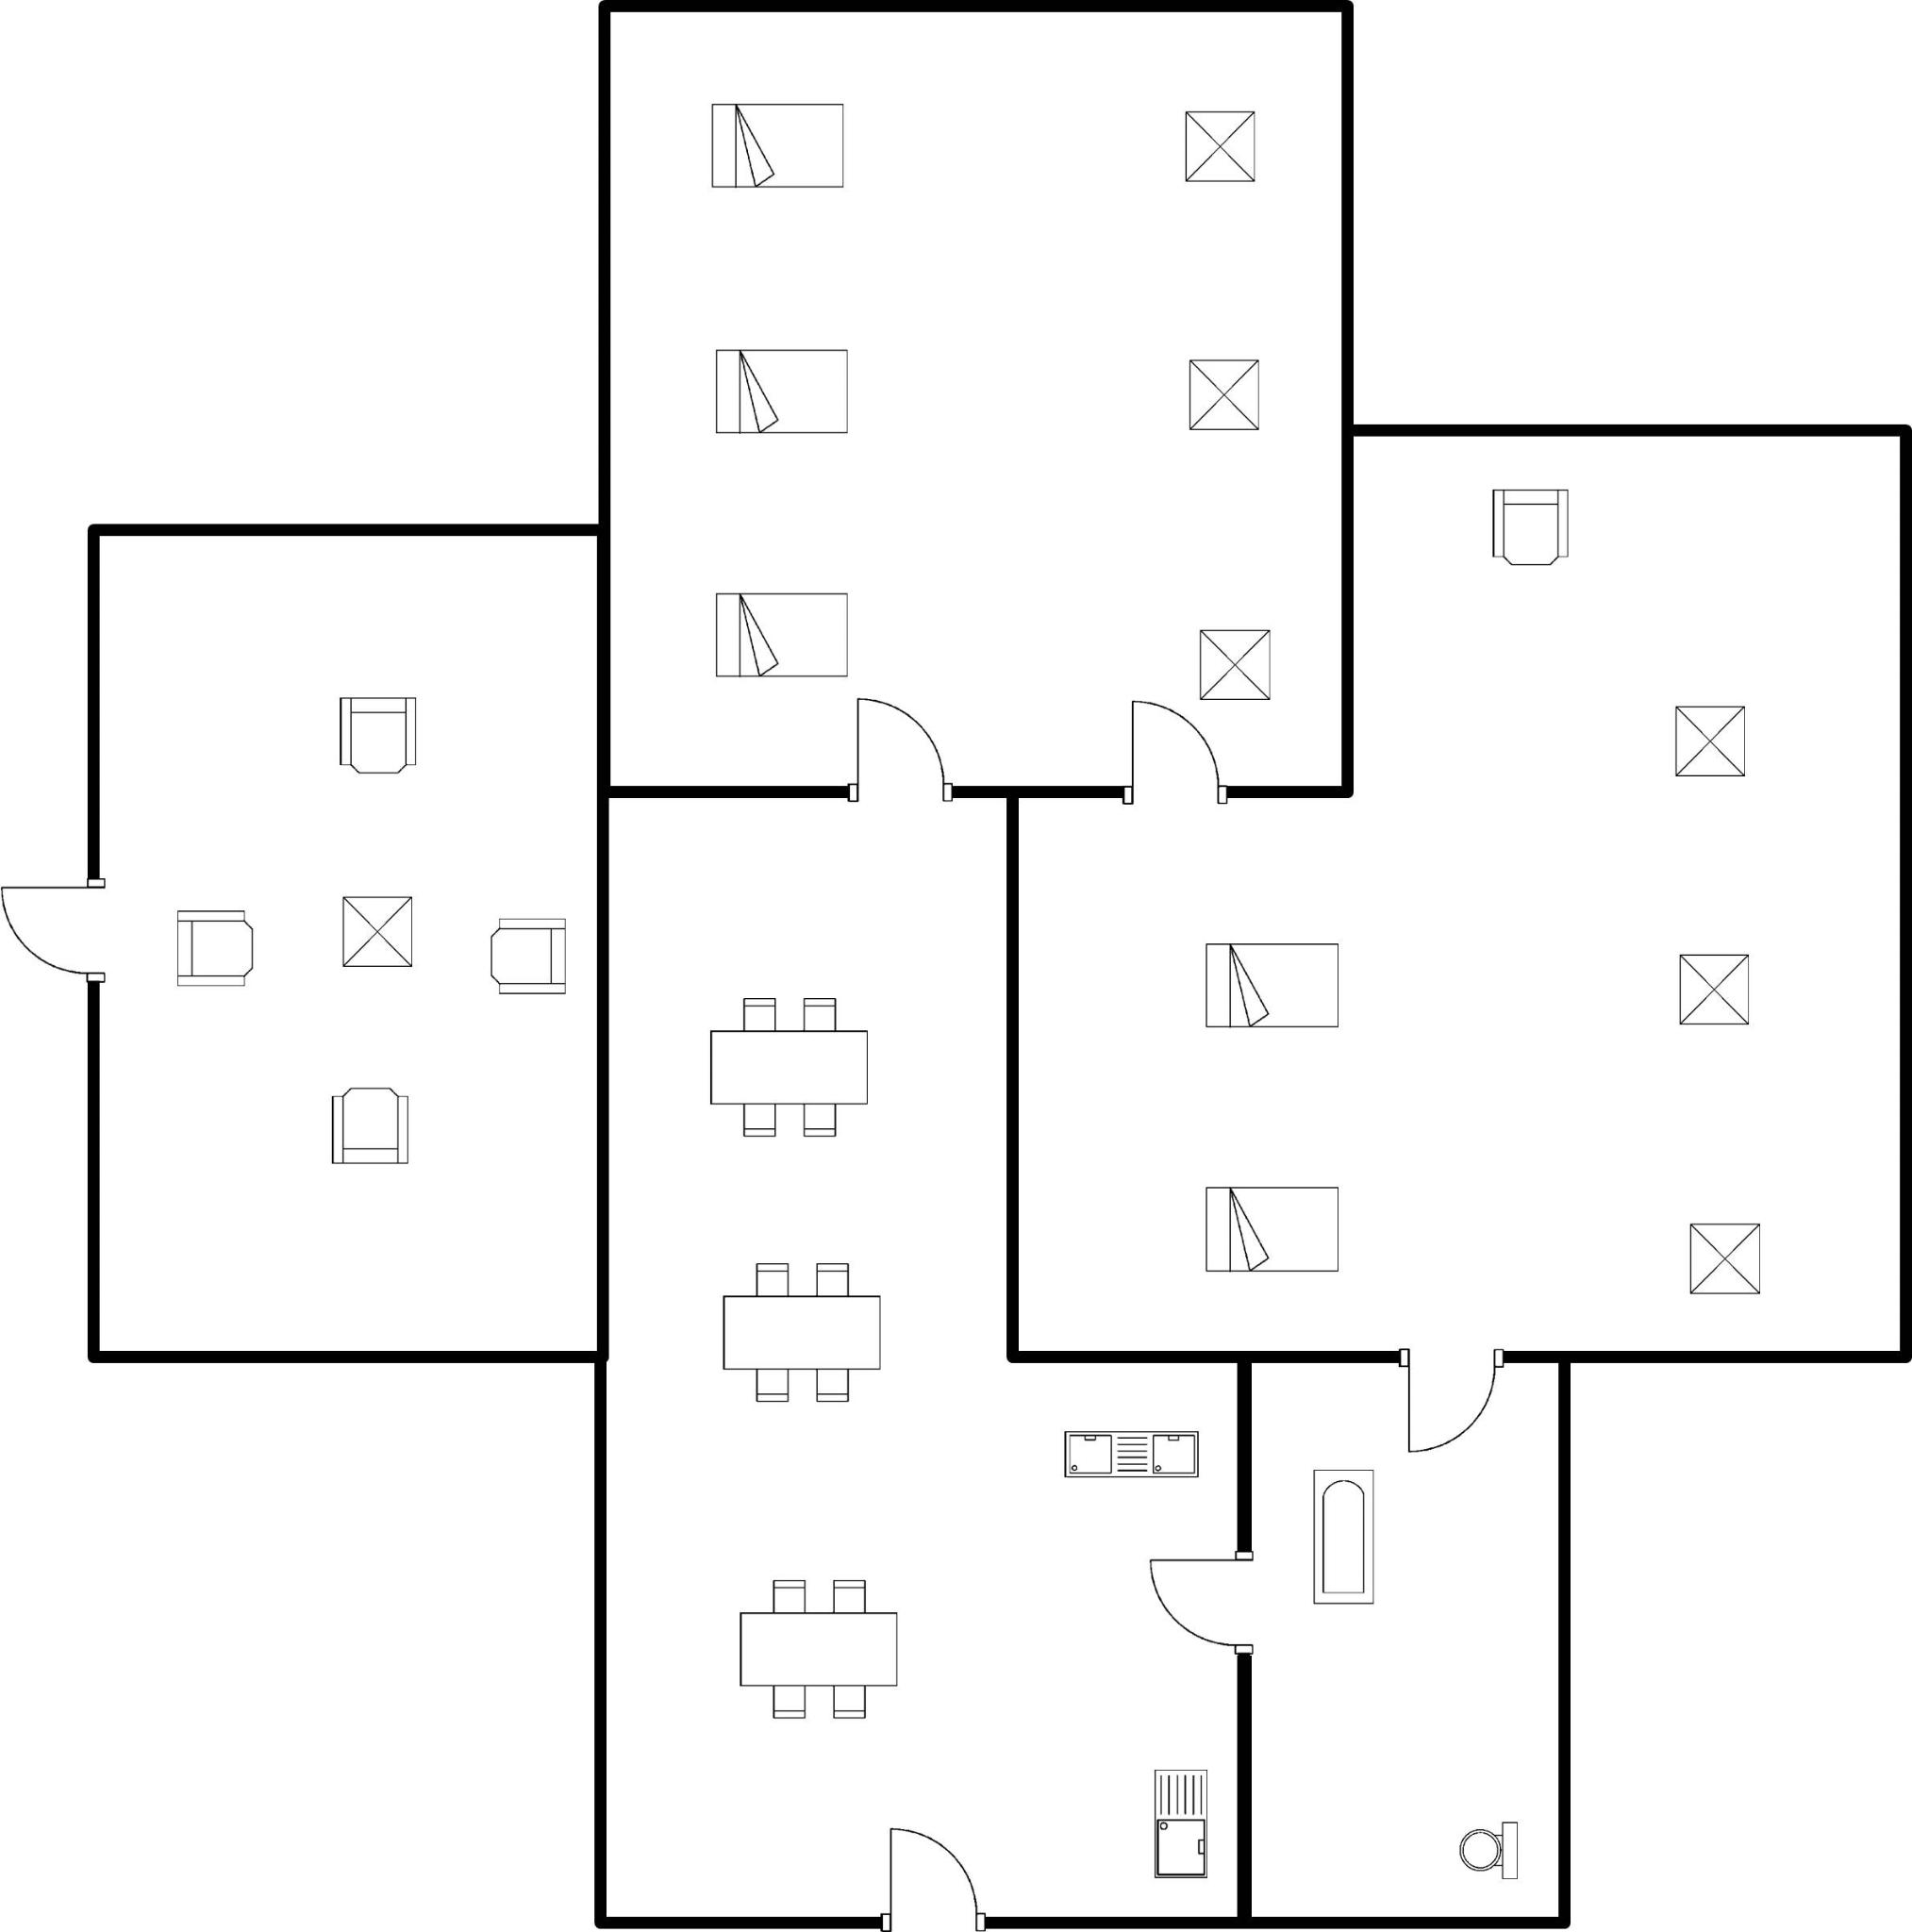sink: (1044, 1417, 1212, 1487)
